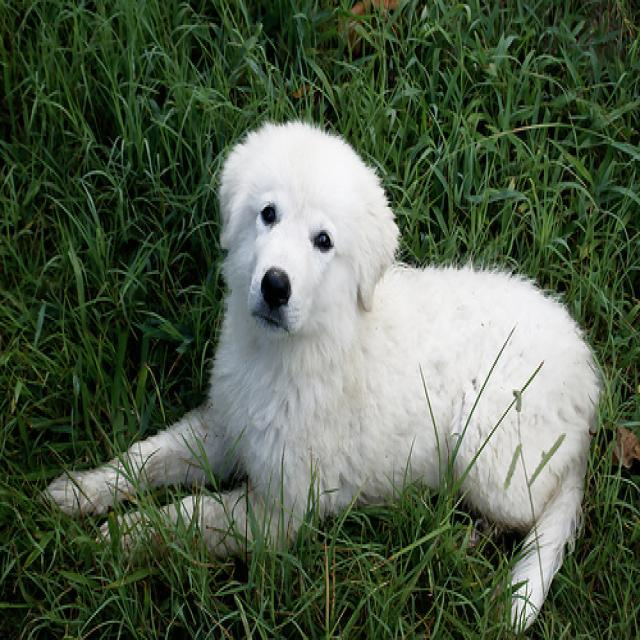dog-great_pyrenees: (41, 109, 608, 632)
